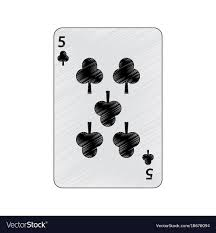five of clubs: (54, 27, 163, 187)
